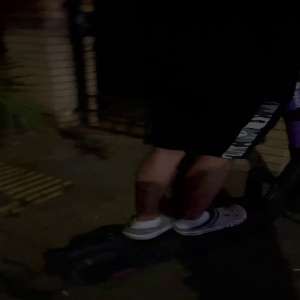human on a scooter: (38, 1, 300, 289)
